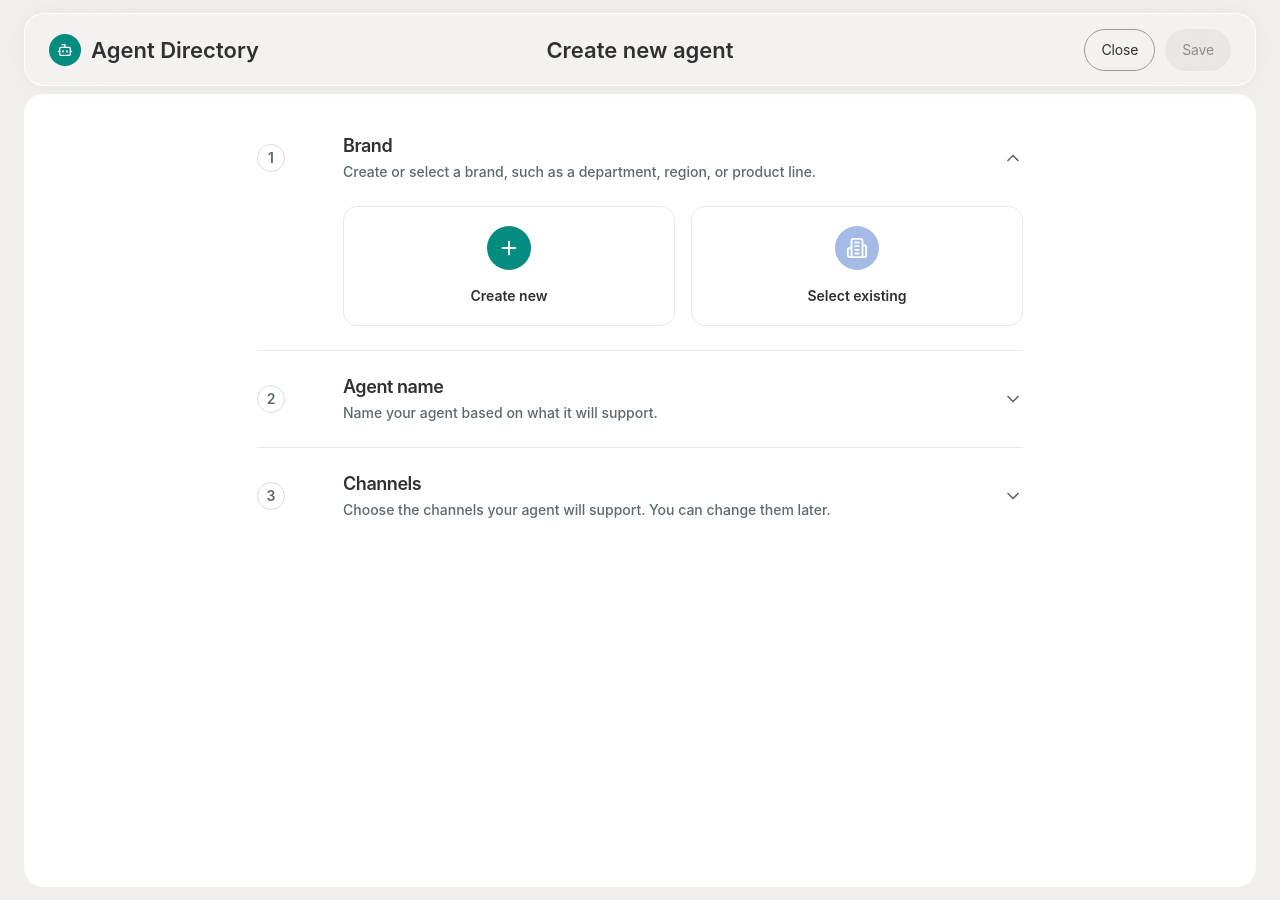
it: CreateAgentFlow › heads the takeover with the section and the agent being named
Expected: the text "Agent Directory" is shown, [91,36,259,64]
Expected: the heading reads "Create new agent", [546,36,734,62]
Click the button "Create new".
click(509, 266)  # box [343,206,675,326]
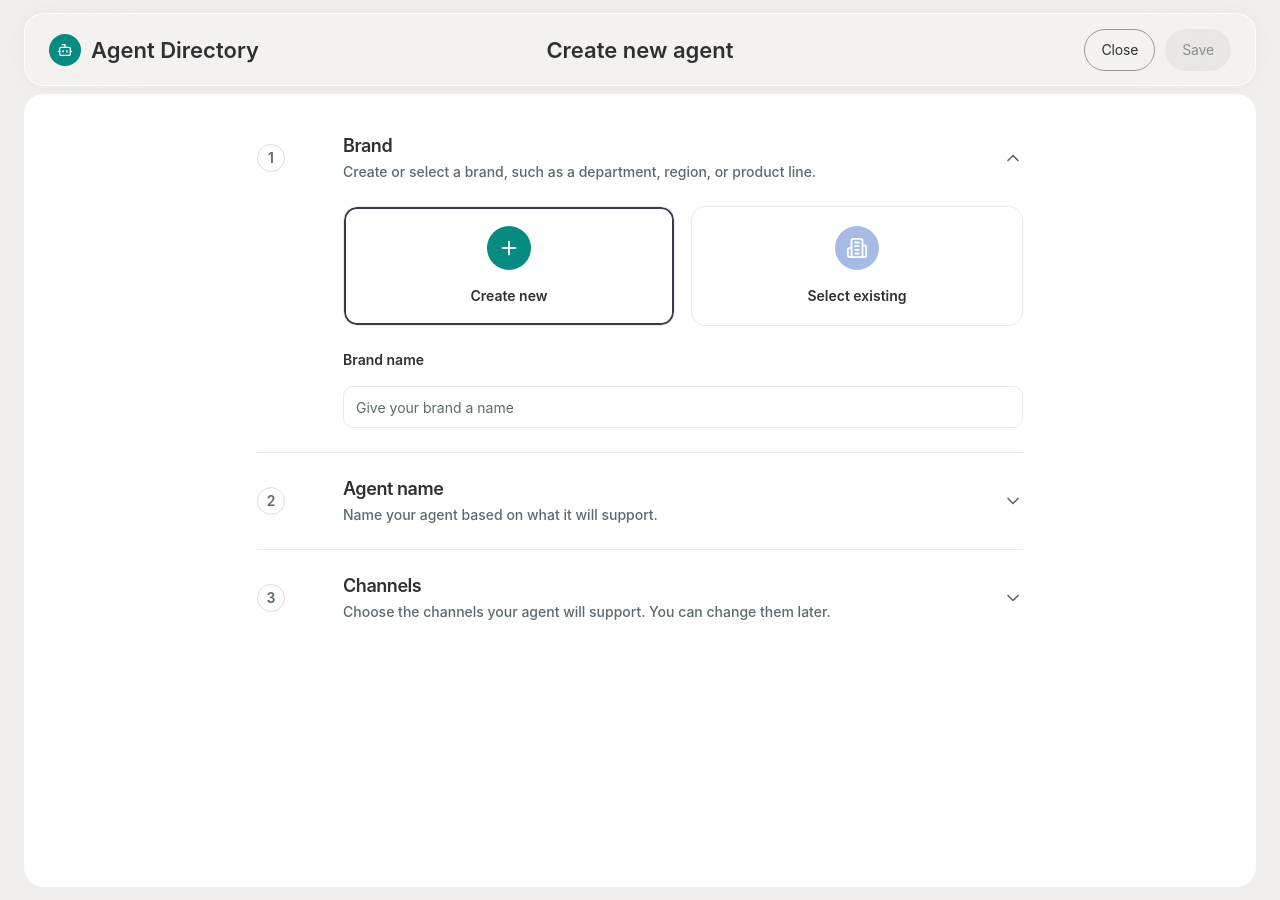
Type "Uber Rentals" into the field labelled "Brand name".
click(683, 407); type("Uber Rentals")  # box [343,386,1023,428]
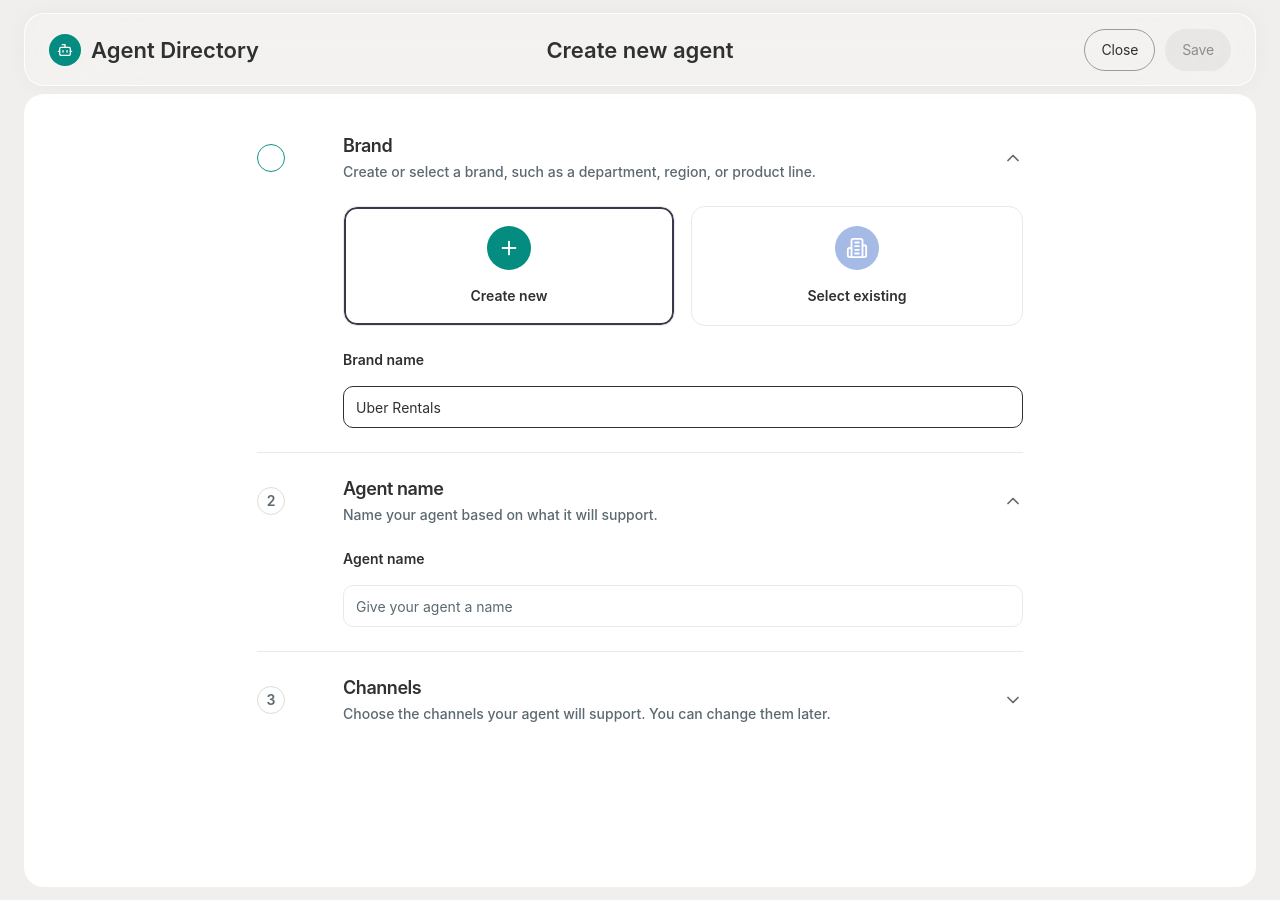
Type "Rental Support" into the field labelled "Agent name".
click(683, 606); type("Rental Support")  # box [343,585,1023,627]
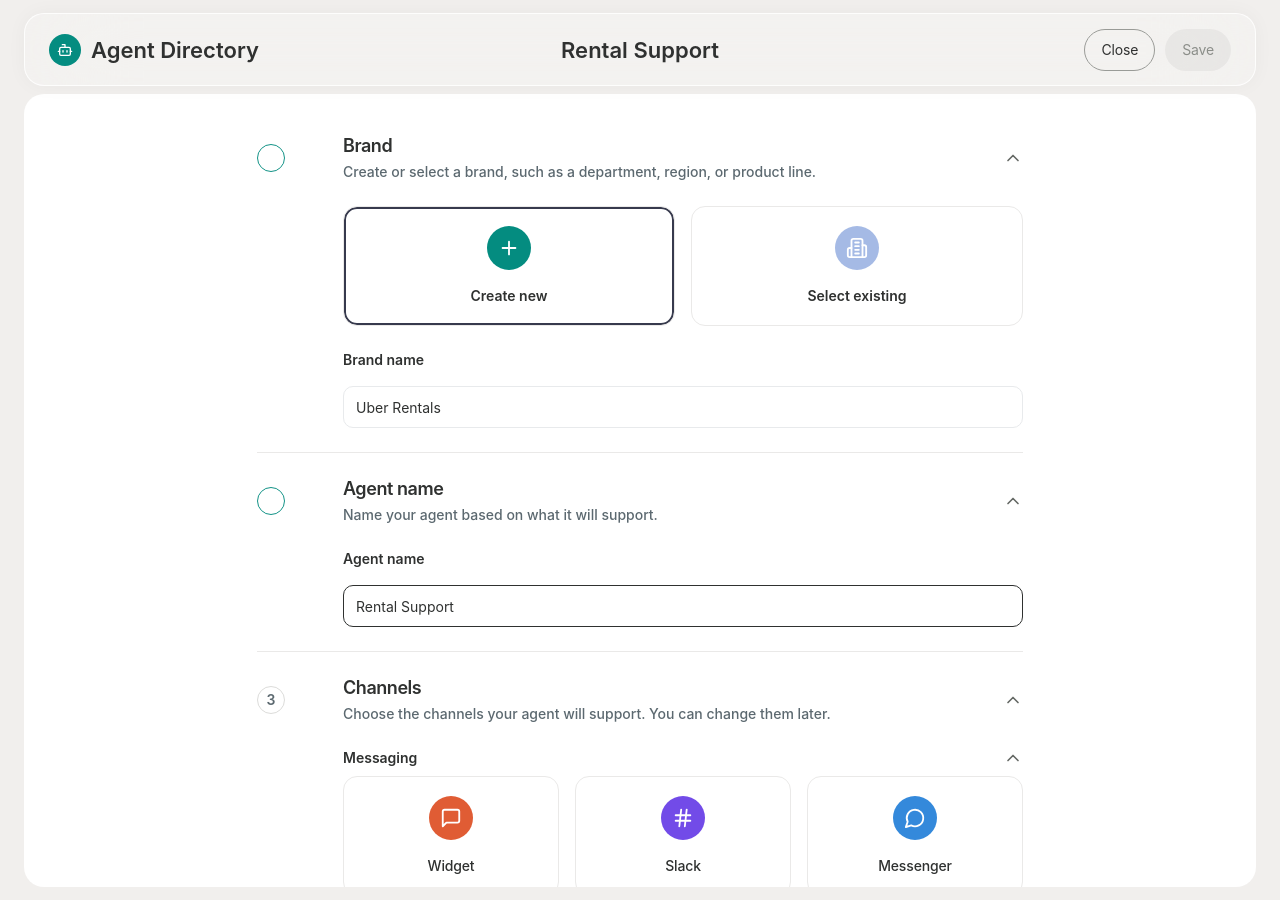
Result: the heading reads "Rental Support" at [561,36,719,62]
